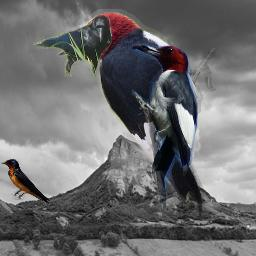Crow: (33, 15, 112, 77)
Swallow: (1, 159, 50, 204)
Woodpecker: (50, 9, 216, 216), (132, 43, 198, 210)
